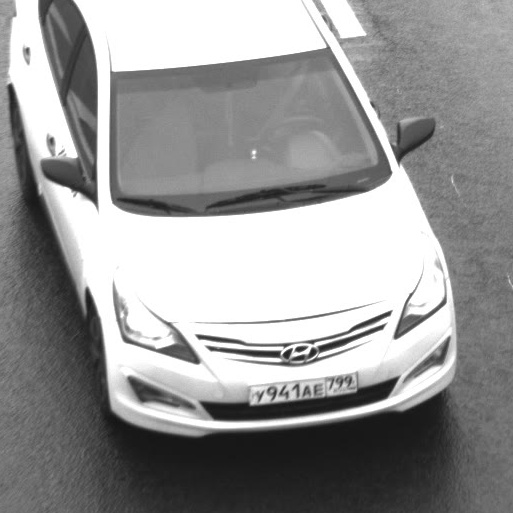plate: (238, 359, 367, 412)
